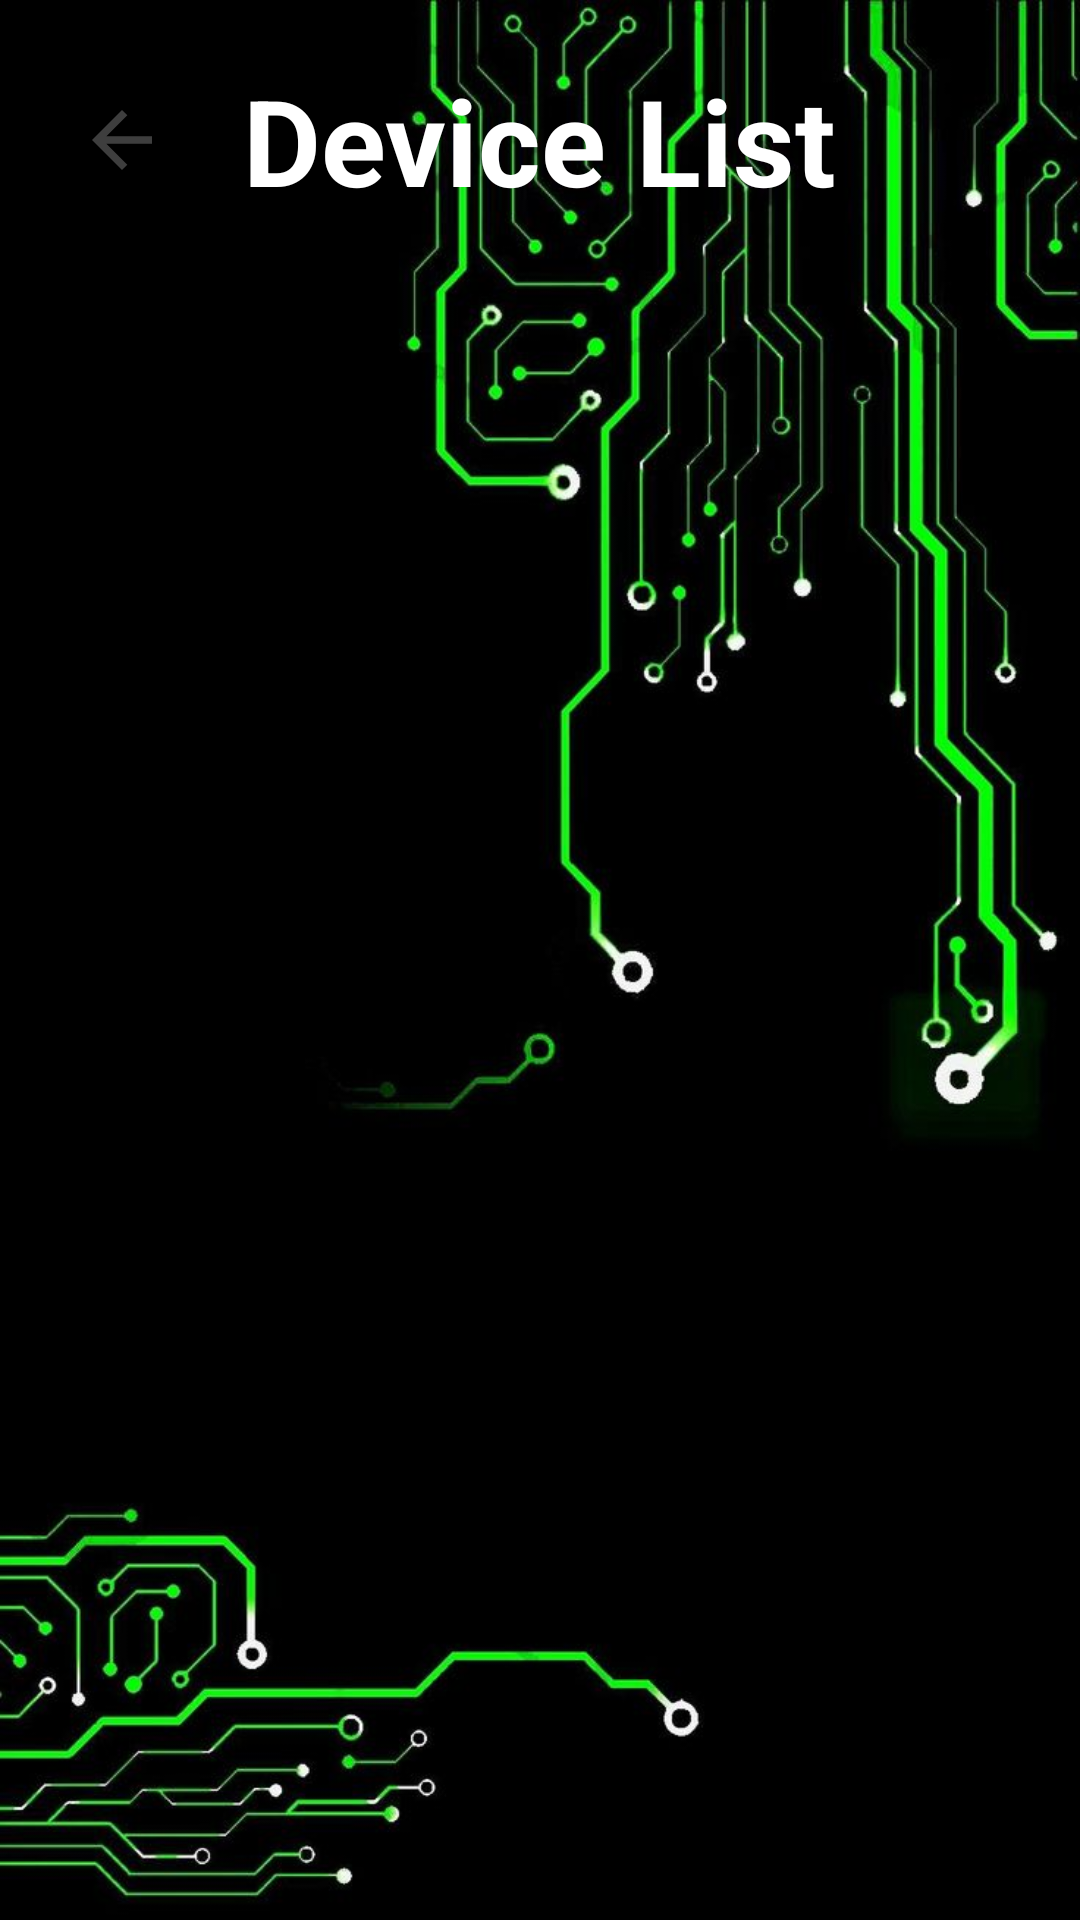

Icons on this 1080w x 1920h Android screen, each with its box as (x1, y1, x2, y2):
return arrow: (92, 110, 152, 170)
